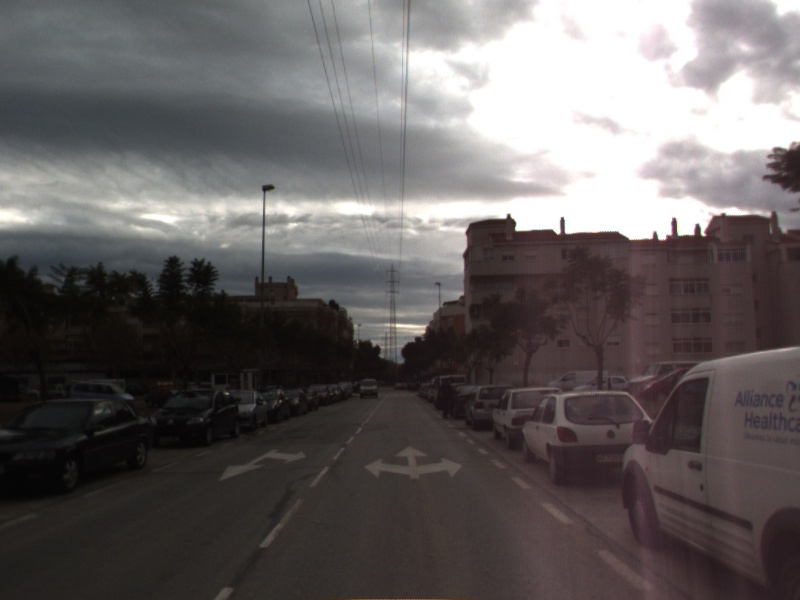STRAIGHT_LEFT_RIGHT: (362, 443, 465, 481)
